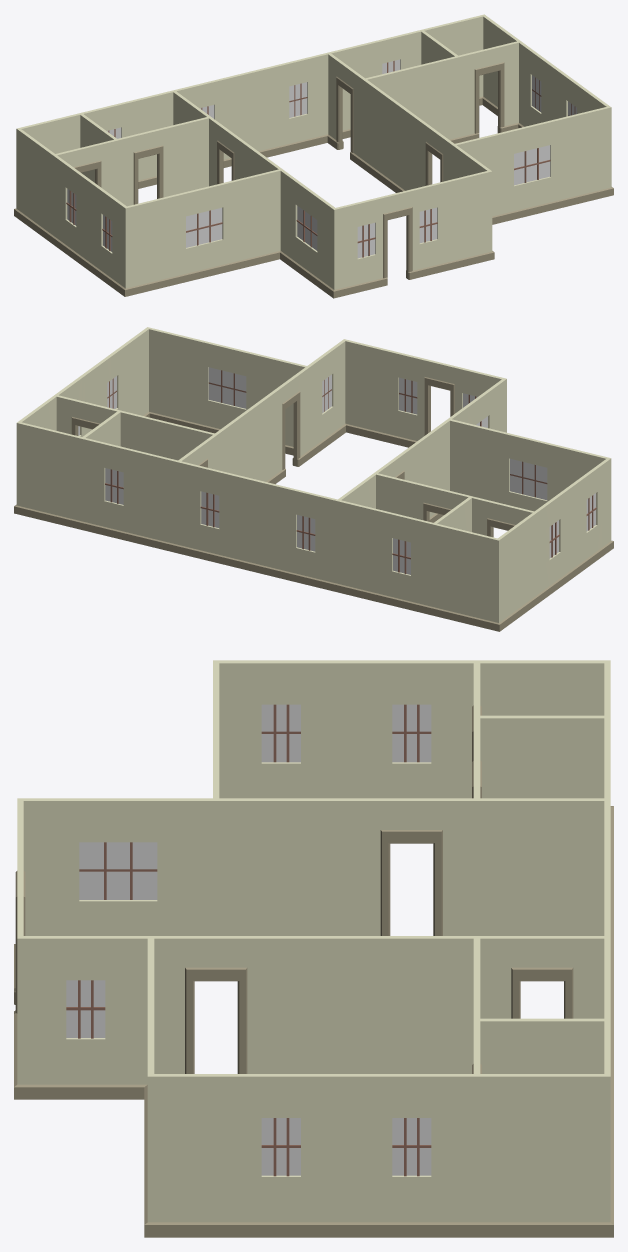
File: House.fbx
3 views of the same model, one above another, from view 1: azimuth 30°, elevation 25°; view 2: azimuth 150°, elevation 25°; view 3: azimuth 270°, elevation 25° (orthographic). The views are drawn at different scales.
Parts seen in each view (by area): view 1: C_WallStraightDouble.018; view 2: C_WallStraightDouble.018; view 3: C_WallStraightDouble.018.
Boxes of the visible parts, <box> form: C_WallStraightDouble.018: <box>14,14,613,298</box>; C_WallStraightDouble.018: <box>14,327,613,631</box>; C_WallStraightDouble.018: <box>14,660,613,1237</box>.
Size of the model in its own units: 1520 by 270 by 920.
